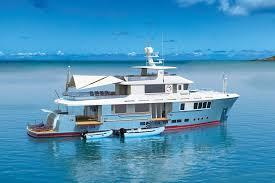Ship: (22, 45, 242, 139)
